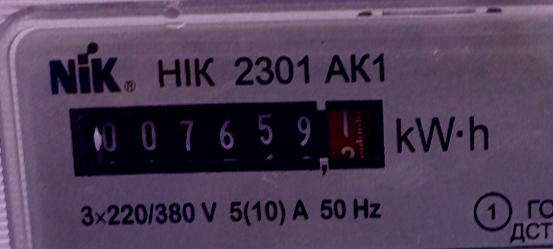0: (137, 116, 160, 154), (98, 117, 119, 156)
1: (337, 104, 353, 141)
5: (255, 110, 275, 147)
6: (215, 115, 237, 151)
7: (175, 115, 196, 153)
9: (293, 112, 314, 149)
screen: (60, 93, 394, 184)
